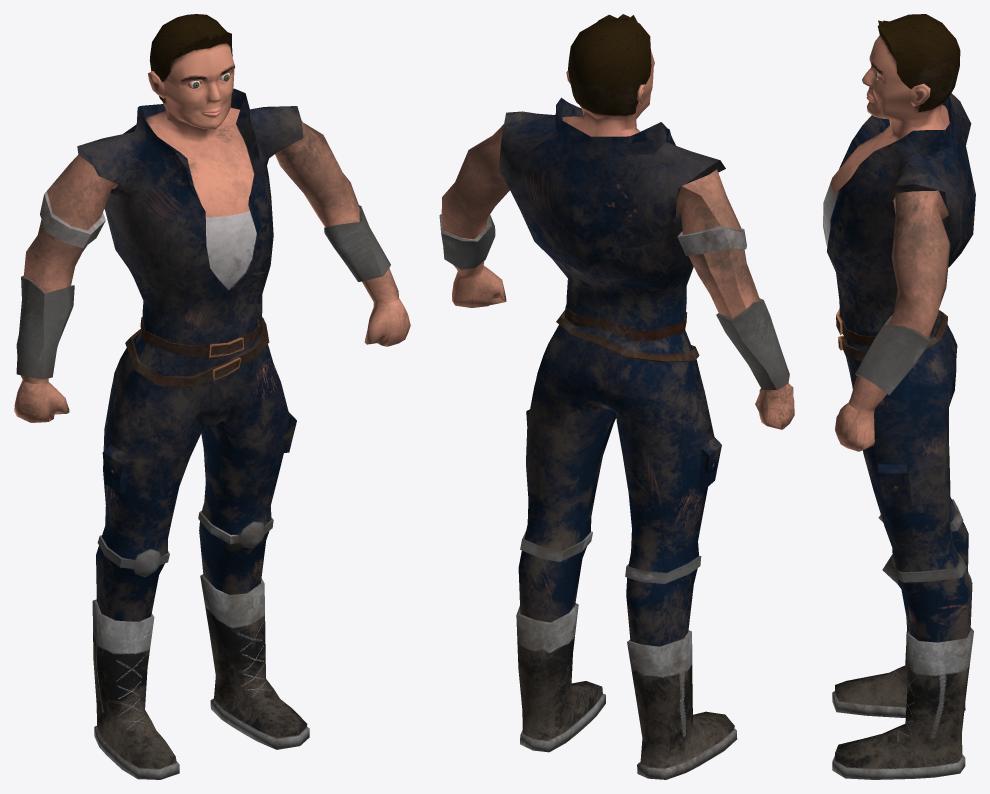
The model's file is Anim_idle_jugador.0020.obj.
3 views of the same model, side by side, from view 1: azimuth 30°, elevation 25°; view 2: azimuth 150°, elevation 25°; view 3: azimuth 270°, elevation 25° (orthographic).
Parts seen in each view (by area): view 1: polySurface1; view 2: polySurface1; view 3: polySurface1.
Boxes of the visible parts, x1,y1,x2,y2 form: polySurface1: (14, 14, 410, 779); polySurface1: (439, 14, 794, 779); polySurface1: (823, 14, 975, 779).
Size of the model in its own units: 5.12 by 9.65 by 1.85.
